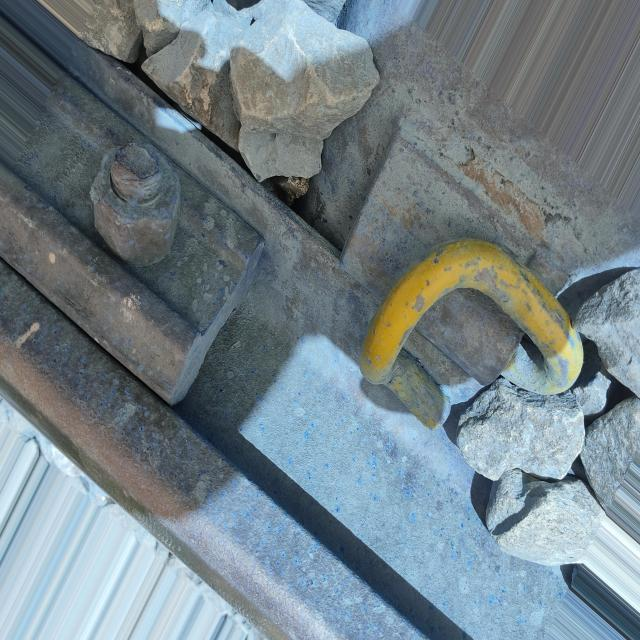Good Fasteners: (328, 110, 593, 433)
